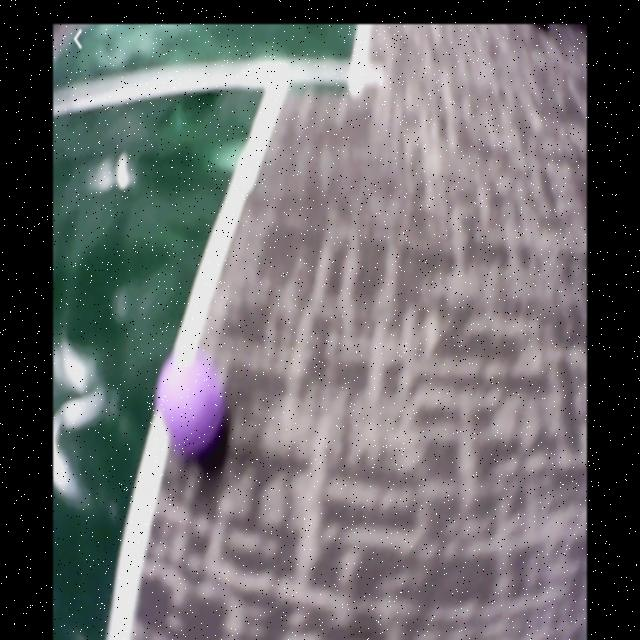ball: (160, 357, 227, 458)
